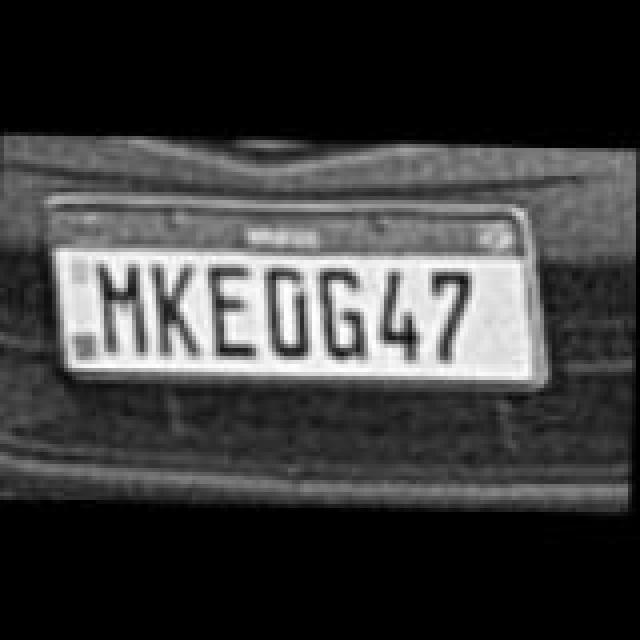4: (378, 264, 422, 360)
7: (432, 264, 480, 360)
D: (266, 264, 318, 356)
E: (204, 260, 260, 356)
G: (318, 262, 370, 358)
H: (98, 256, 150, 352)
K: (150, 260, 202, 356)
